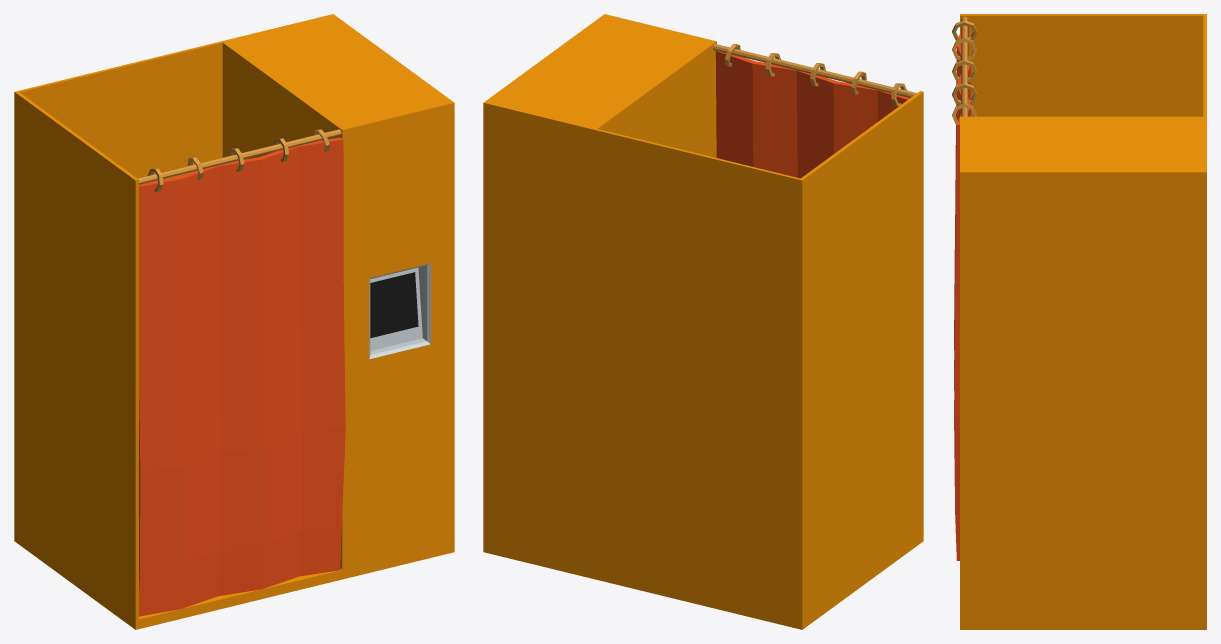
Rendered from Photo booth.glb.
3 views of the same model, side by side, from view 1: azimuth 30°, elevation 25°; view 2: azimuth 150°, elevation 25°; view 3: azimuth 270°, elevation 25° (orthographic).
Visible parts, largest first — view 1: Photo_booth_Cube.031; view 2: Photo_booth_Cube.031; view 3: Photo_booth_Cube.031.
Boxes of the visible parts, bbox=[...] form: Photo_booth_Cube.031: bbox=[14, 14, 454, 629]; Photo_booth_Cube.031: bbox=[483, 14, 923, 629]; Photo_booth_Cube.031: bbox=[952, 14, 1206, 629].
Bounding box in the file's own units: 7.37 × 10.06 × 5.01.
